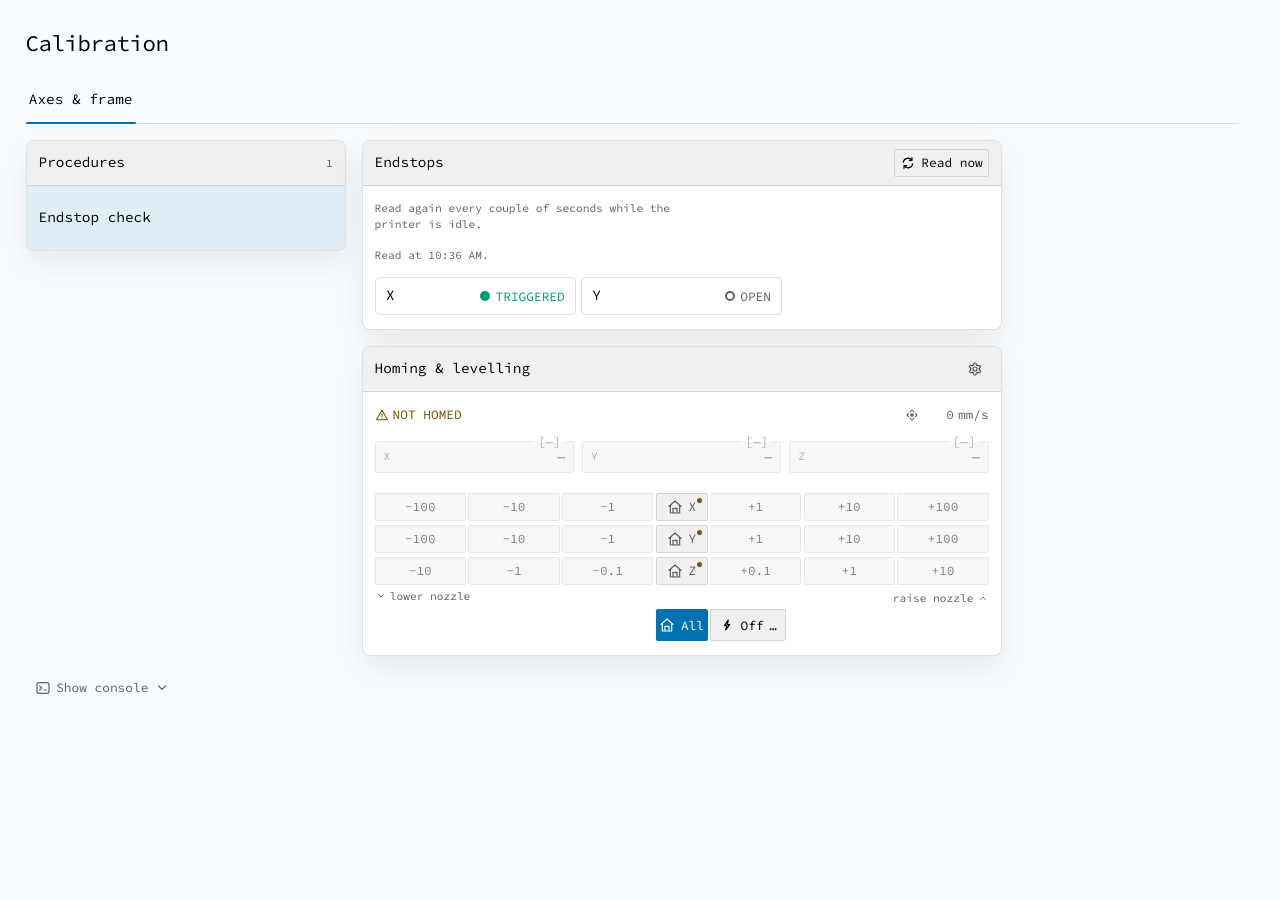
Scenario: Calibration view › reuses the console page panel, with the command browser and its settings
Click the button with class "calibration-console-toggle" at coordinates (102, 688), box top-left (26, 672), bottom-right (179, 704)
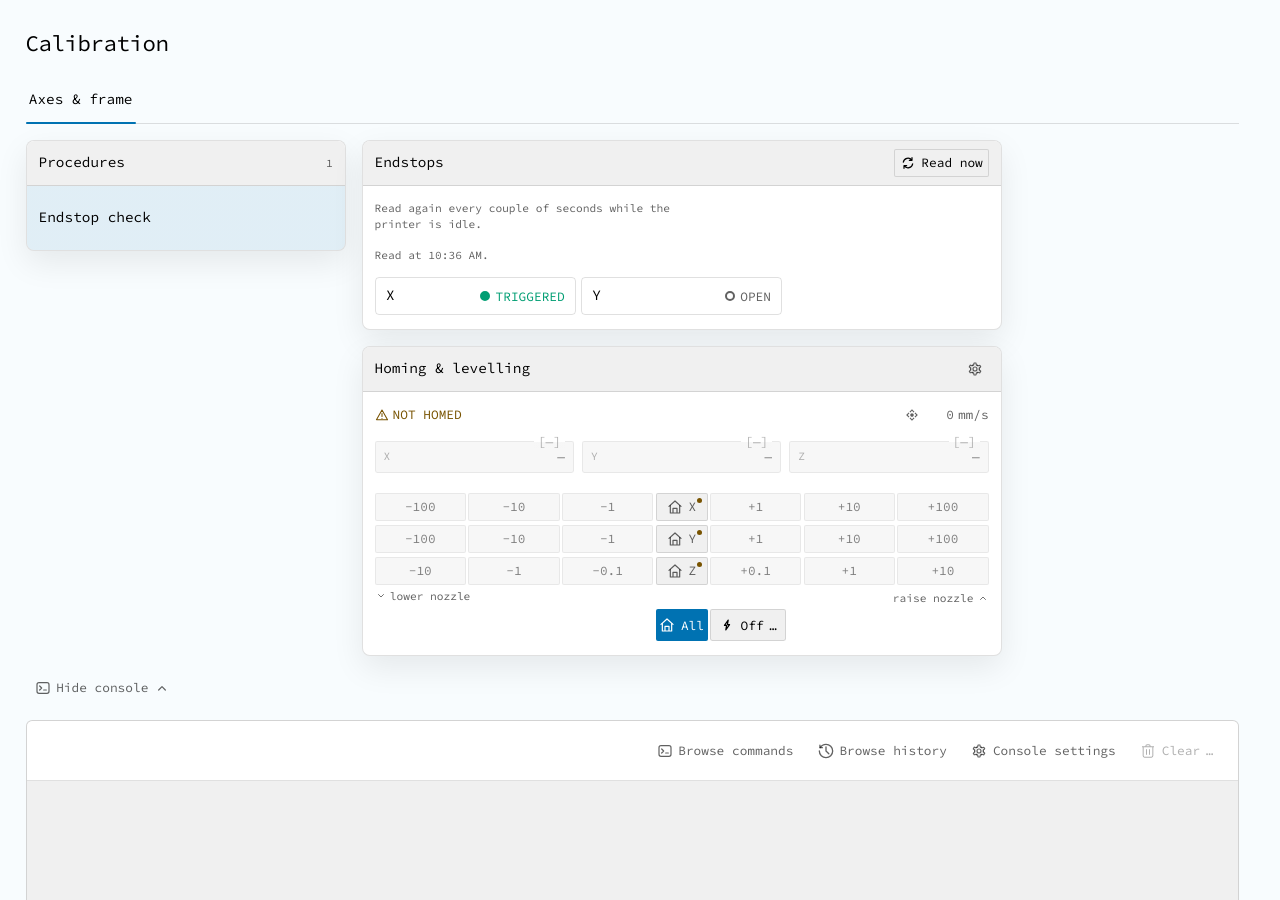
Now the button "Browse commands" is shown
Click the button "Browse commands" at coordinates (725, 750), box top-left (648, 734), bottom-right (802, 766)
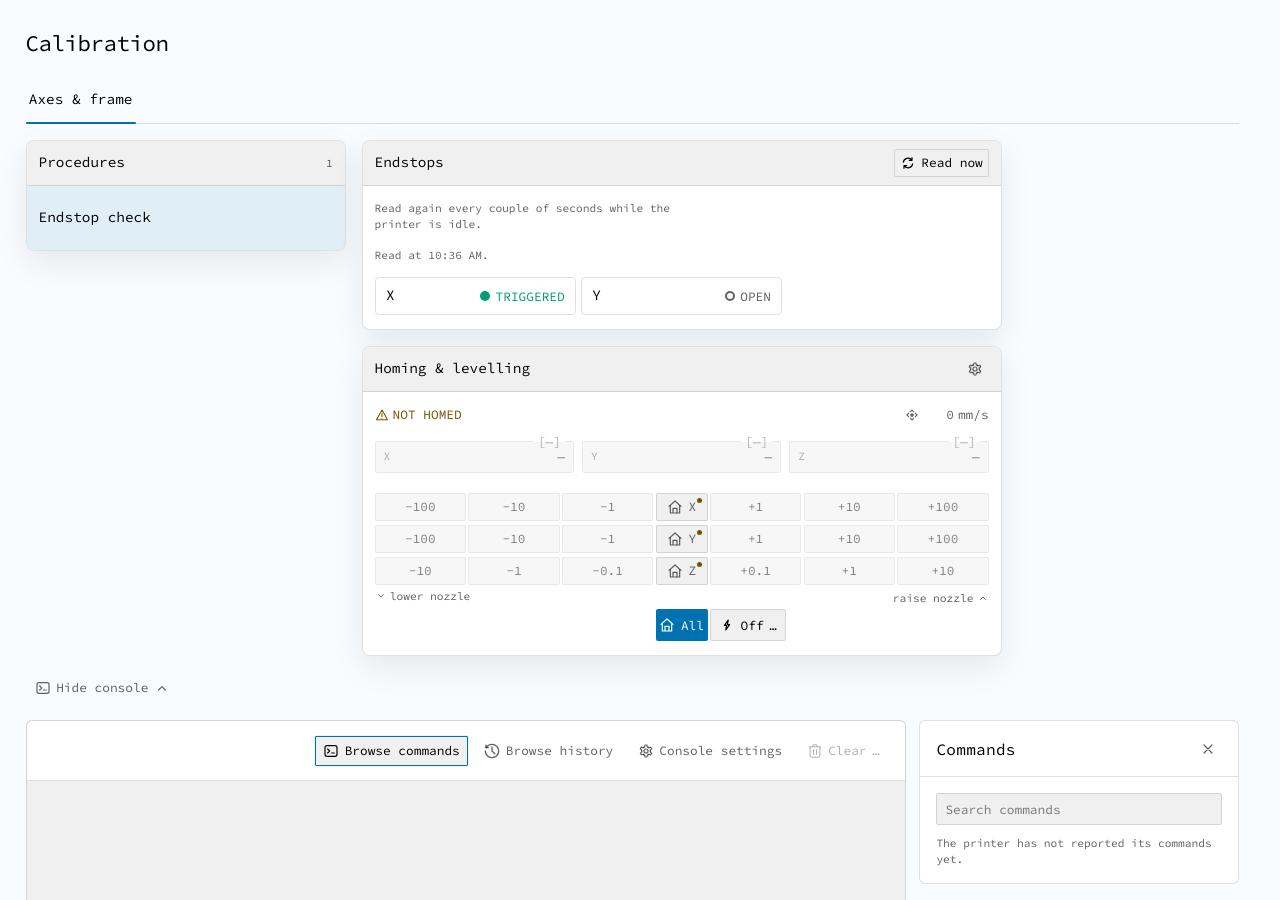
Now the element with class "console-aside" is shown, box top-left (919, 720), bottom-right (1239, 884)
